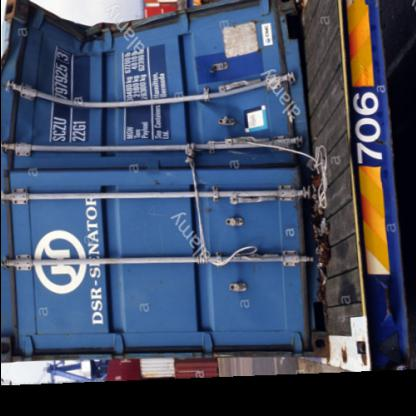Damage: (0, 1, 294, 159)
